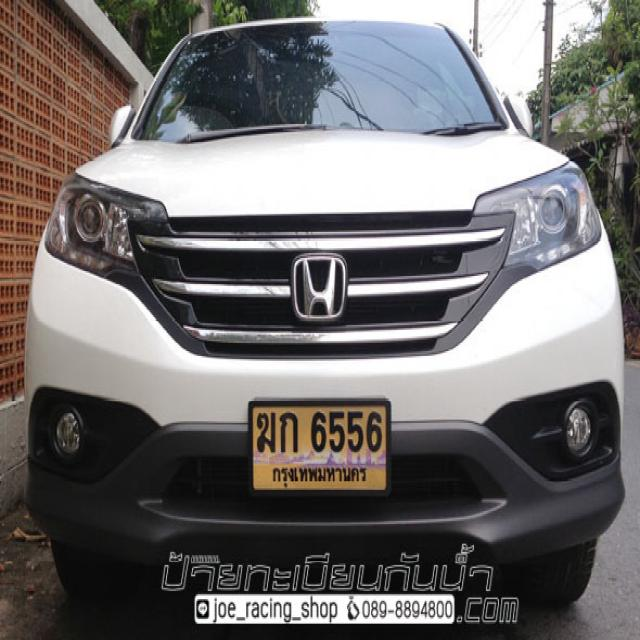license_plate: (248, 399, 392, 509)
